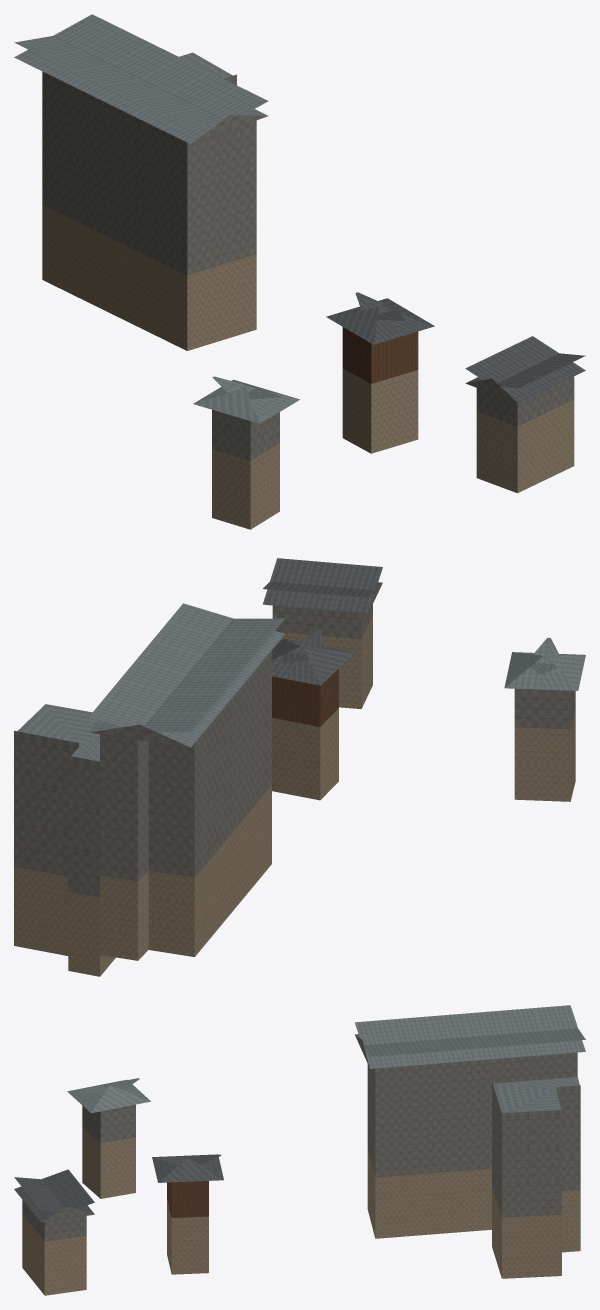
Rendered from bld_c21_31_377.gltf.
The picture shows the model from 3 angles, top to bottom: view 1: azimuth 30°, elevation 25°; view 2: azimuth 150°, elevation 25°; view 3: azimuth 270°, elevation 25°; orthographic projection. The views are drawn at different scales.
Parts seen in each view (by area): view 1: bld_c21_31_377; view 2: bld_c21_31_377; view 3: bld_c21_31_377.
Part boxes in pixels (x1=…): bld_c21_31_377: x1=14, y1=14, x2=585, y2=529; bld_c21_31_377: x1=14, y1=558, x2=585, y2=976; bld_c21_31_377: x1=14, y1=1005, x2=585, y2=1295.
Bounding box in the file's own units: 23.94 × 17.2 × 43.08.
6 materials, 6 textured.
